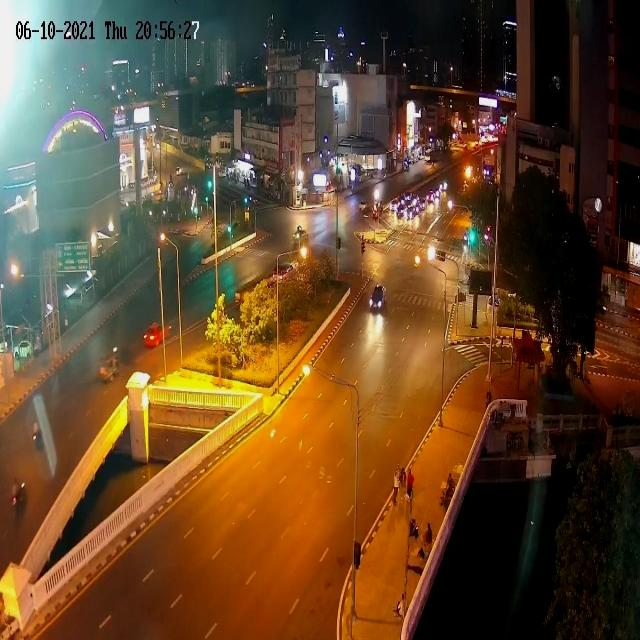Car: (362, 278, 388, 324), (145, 313, 173, 349), (99, 350, 123, 383), (292, 224, 310, 247), (357, 197, 370, 214), (427, 190, 436, 208), (390, 196, 398, 213), (413, 200, 421, 216), (406, 206, 415, 220), (397, 204, 406, 218), (398, 192, 407, 206), (219, 165, 228, 178), (420, 196, 427, 212), (405, 190, 413, 203), (441, 180, 448, 194)
Cycle: (8, 466, 30, 509), (29, 410, 48, 454)
